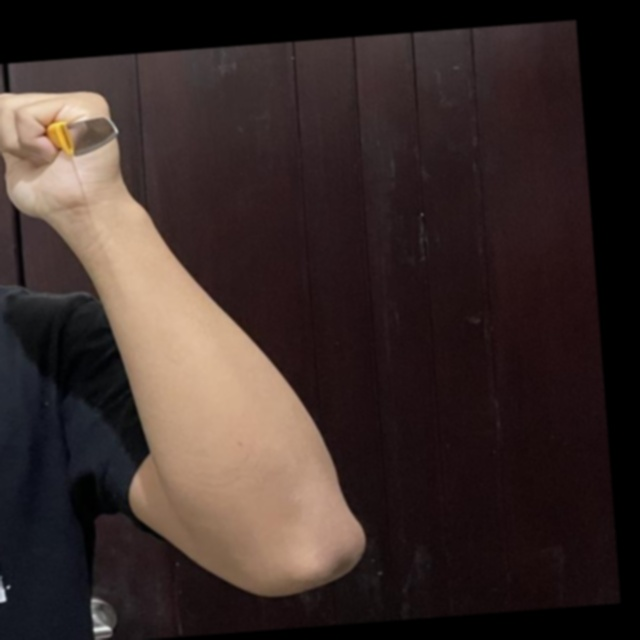Sharp-Object: (43, 112, 124, 162)
